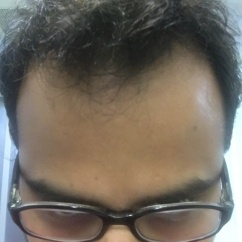glasses: (10, 178, 239, 242)
